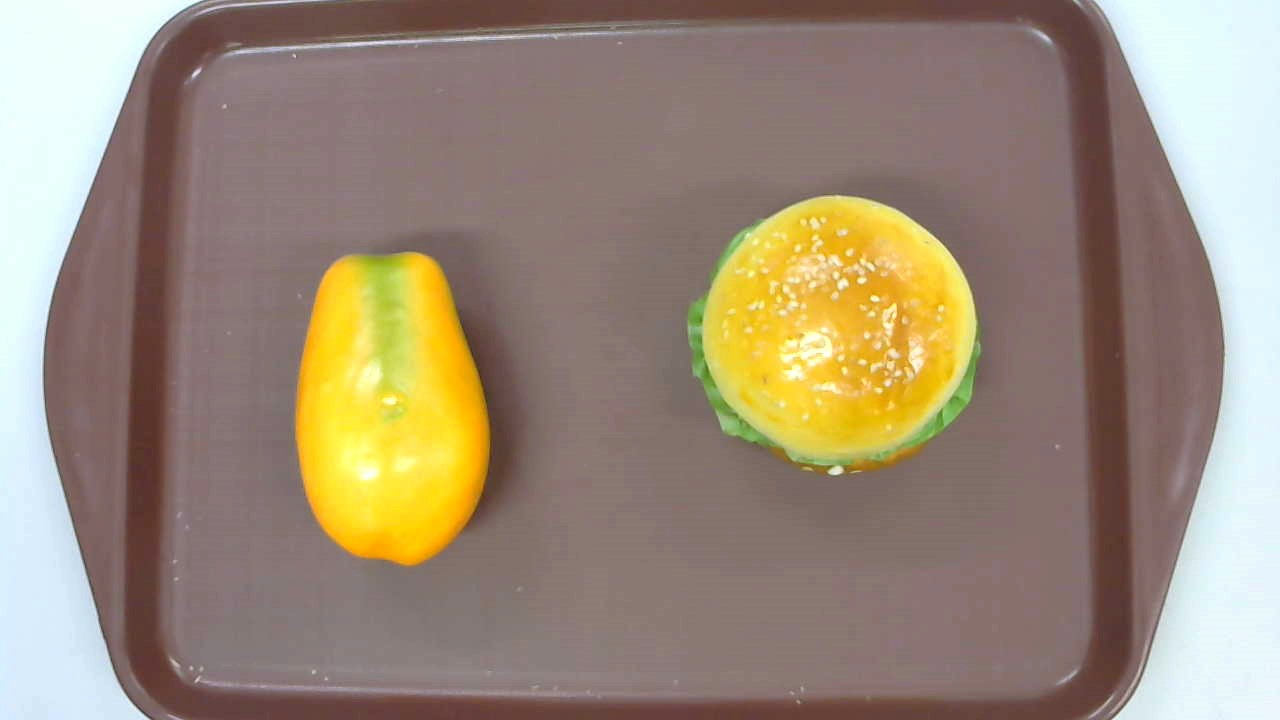hamburger: (684, 196, 983, 478)
papya: (295, 250, 490, 567)
